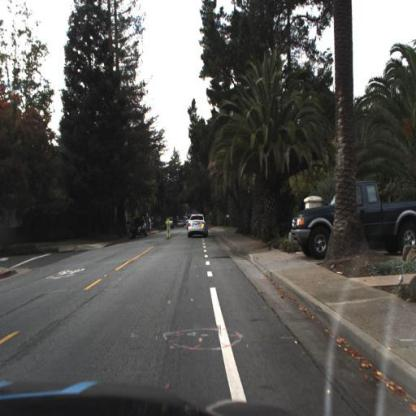car: (289, 177, 416, 266), (130, 212, 155, 243), (186, 212, 208, 240)
